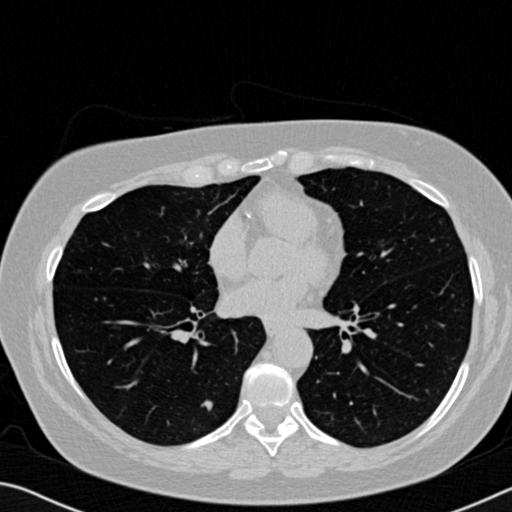nodule: (201, 398, 215, 412)
